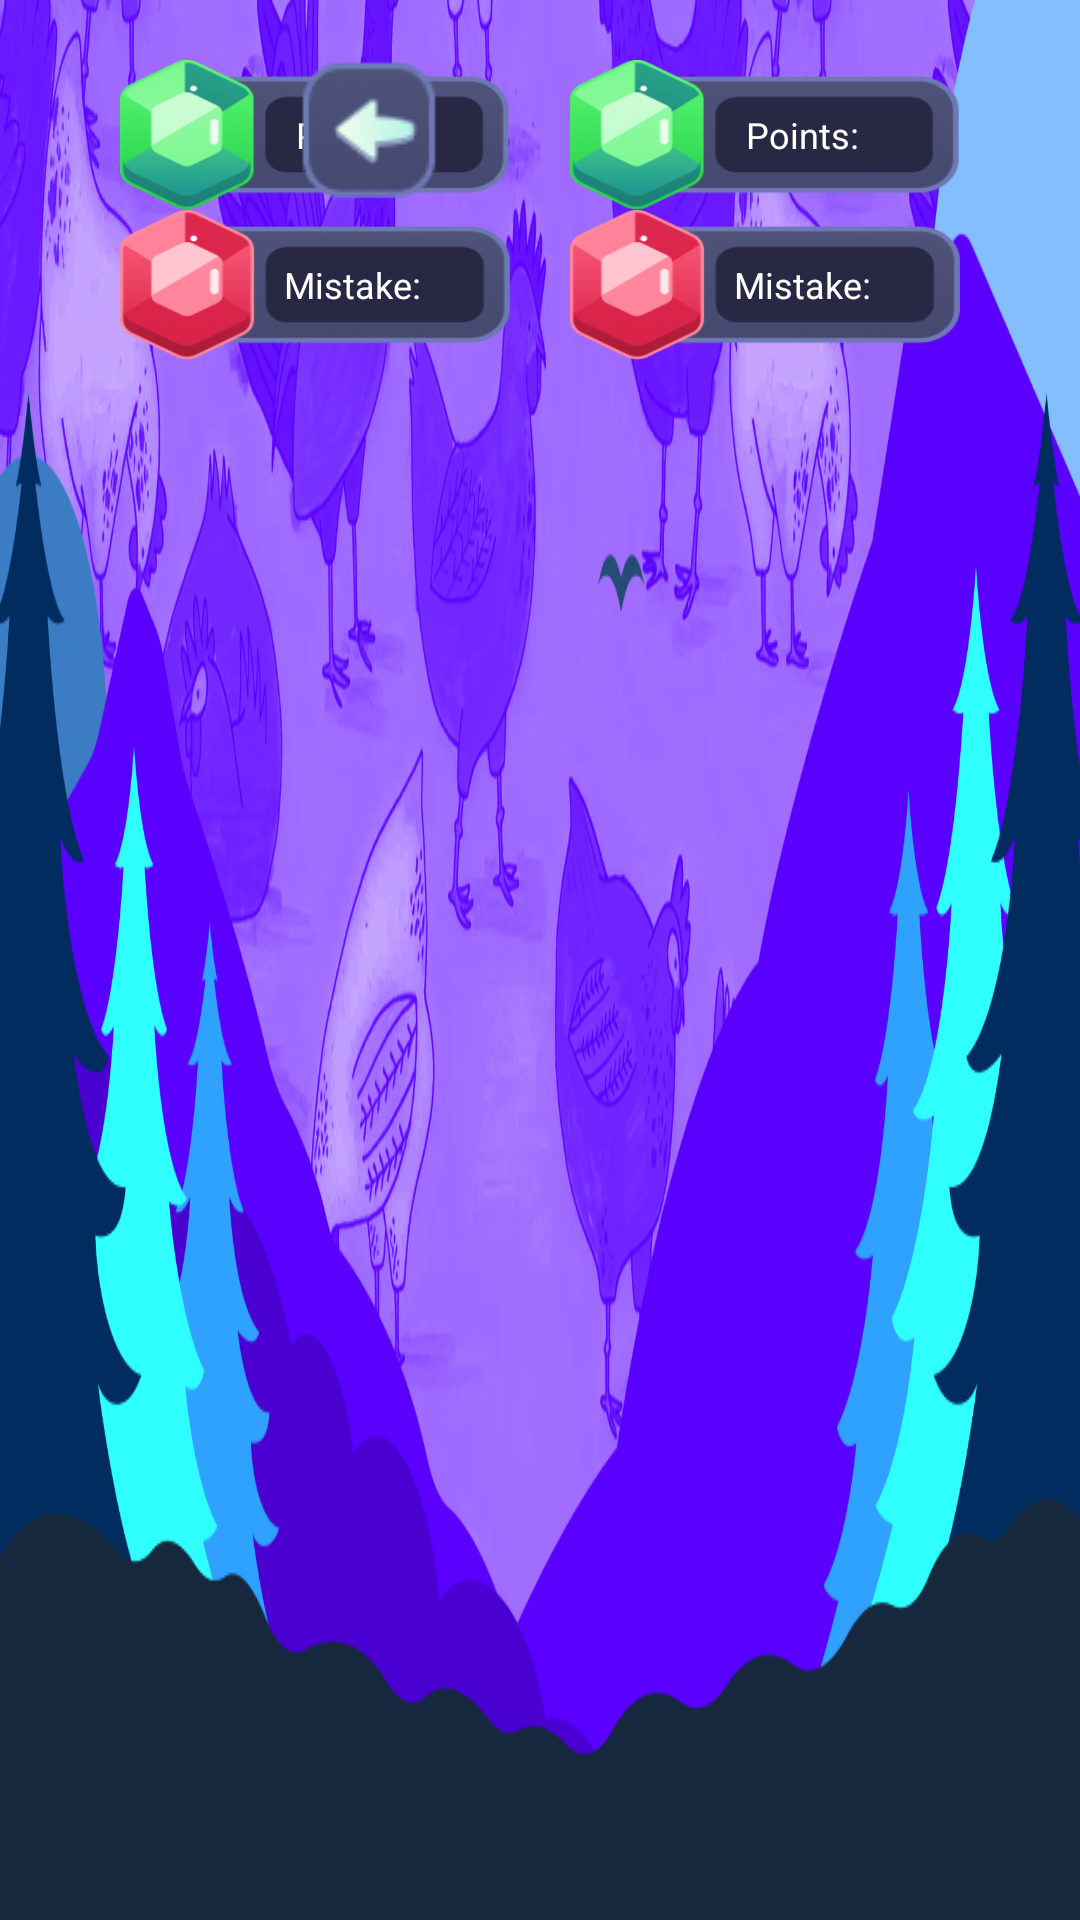

Icons on this 1080x1920 Android screen, each with the point to tap as point (x, y):
back: point (369, 129)
